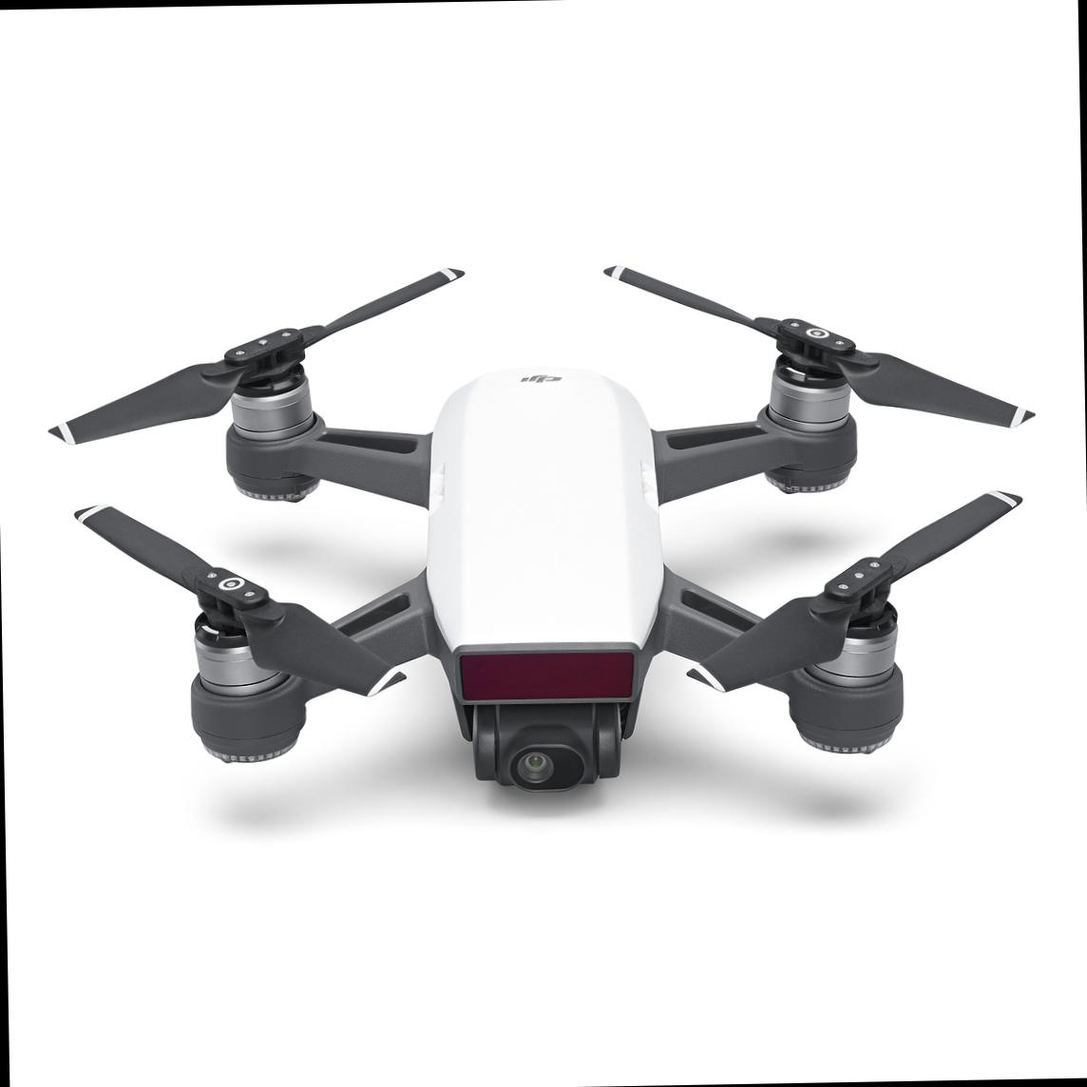drone: (36, 208, 1057, 833)
